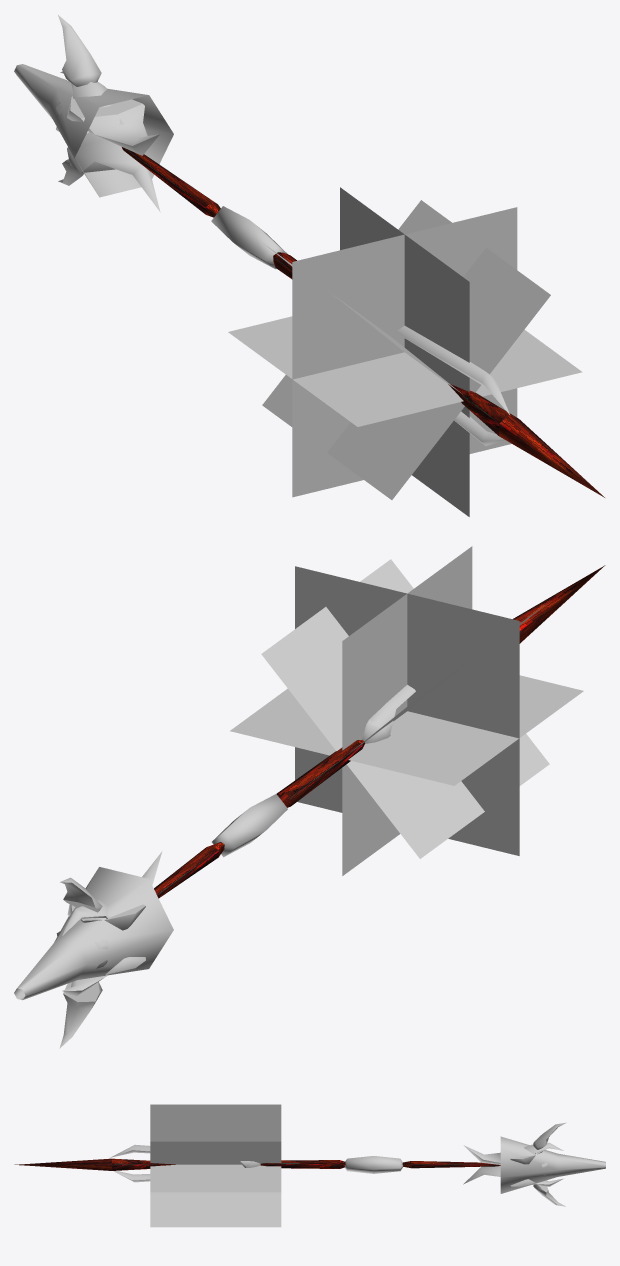
File: FuHuoZhiZhang.FBX
The picture shows the model from 3 angles, top to bottom: view 1: azimuth 30°, elevation 25°; view 2: azimuth 150°, elevation 25°; view 3: azimuth 270°, elevation 25°; orthographic projection. The views are drawn at different scales.
Parts seen in each view (by area): view 1: SMDImport; view 2: SMDImport; view 3: SMDImport.
Part boxes in pixels (left/top/right/bottom): SMDImport: left=14, top=15, right=604, bottom=516; SMDImport: left=14, top=546, right=605, bottom=1048; SMDImport: left=14, top=1104, right=605, bottom=1227.
Bounding box in the file's own units: 63.47 × 63.34 × 286.
